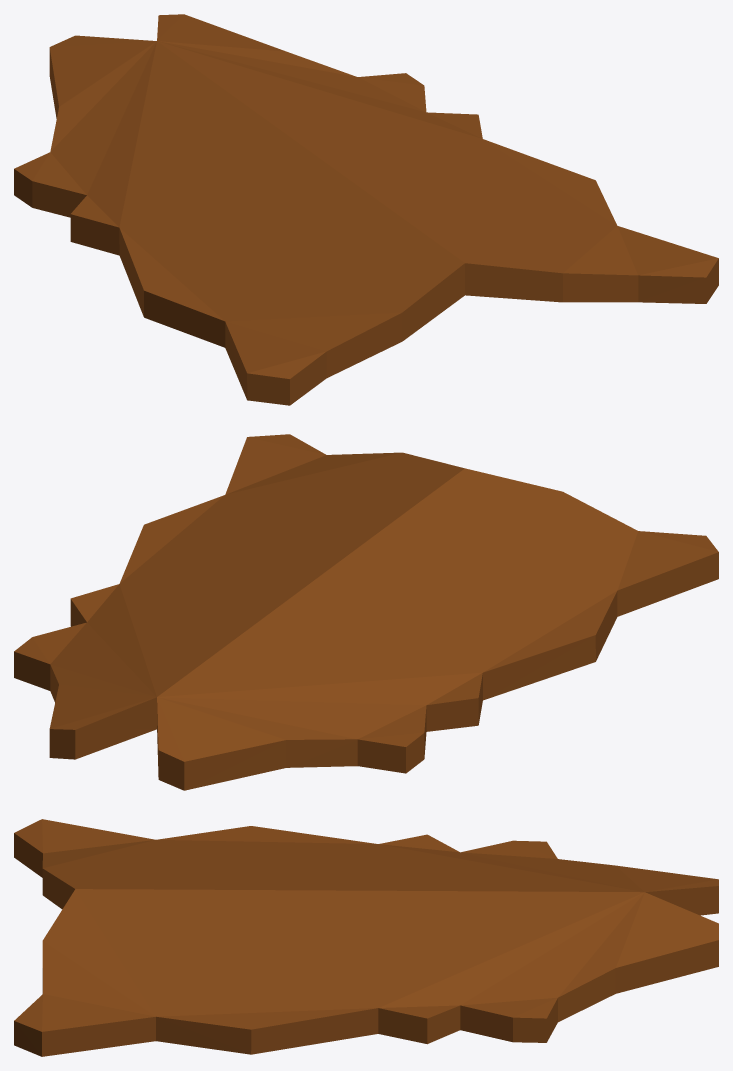
The model's file is Animal Hide by Zsky - GaurgMNrWC.glb.
3 views of the same model, one above another, from view 1: azimuth 30°, elevation 25°; view 2: azimuth 150°, elevation 25°; view 3: azimuth 270°, elevation 25° (orthographic). The views are drawn at different scales.
Visible parts, largest first — view 1: Hide_animal_Cube; view 2: Hide_animal_Cube; view 3: Hide_animal_Cube.
Boxes of the visible parts, left/top/right/bottom form: Hide_animal_Cube: left=14, top=14, right=718, bottom=405; Hide_animal_Cube: left=14, top=434, right=718, bottom=790; Hide_animal_Cube: left=14, top=819, right=718, bottom=1056.
Bounding box in the file's own units: 41.79 × 6 × 58.49.
